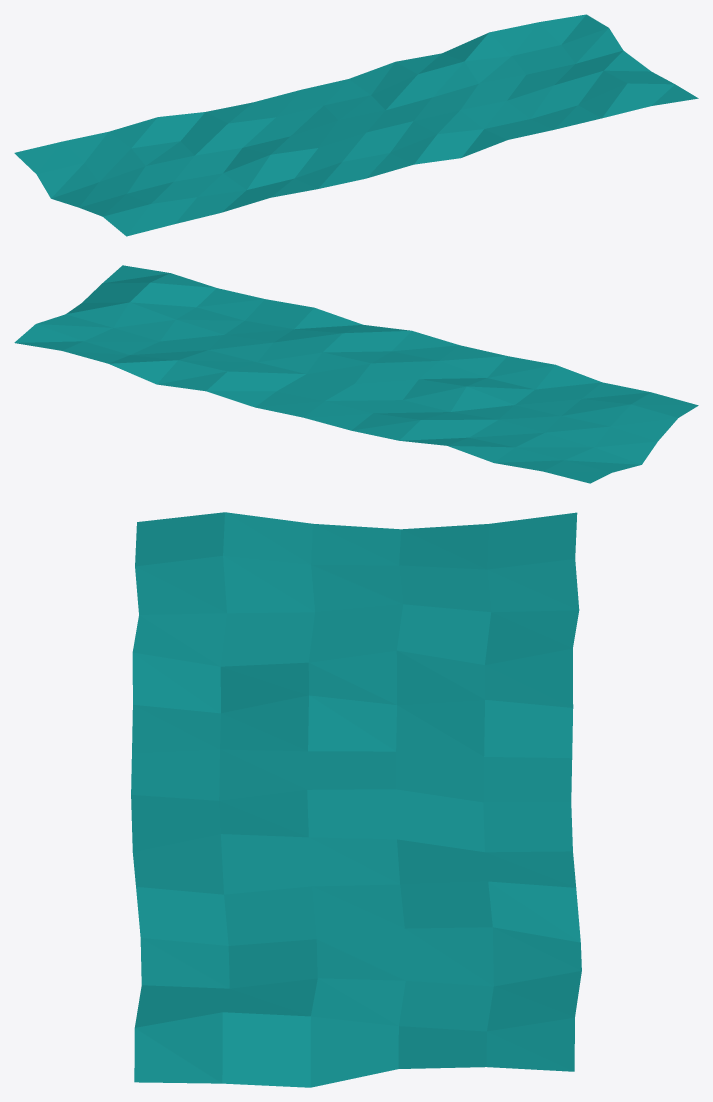
The model's file is RiverNoise.FBX.
The picture shows the model from 3 angles, top to bottom: view 1: azimuth 30°, elevation 25°; view 2: azimuth 150°, elevation 25°; view 3: azimuth 270°, elevation 25°; orthographic projection. The views are drawn at different scales.
Parts seen in each view (by area): view 1: River; view 2: River; view 3: River.
Part boxes in pixels (x1,y1,x2,y2): River: [14, 14, 698, 236]; River: [14, 265, 698, 483]; River: [131, 512, 581, 1087].
Size of the model in its own units: 2401 by 806 by 71.52.
